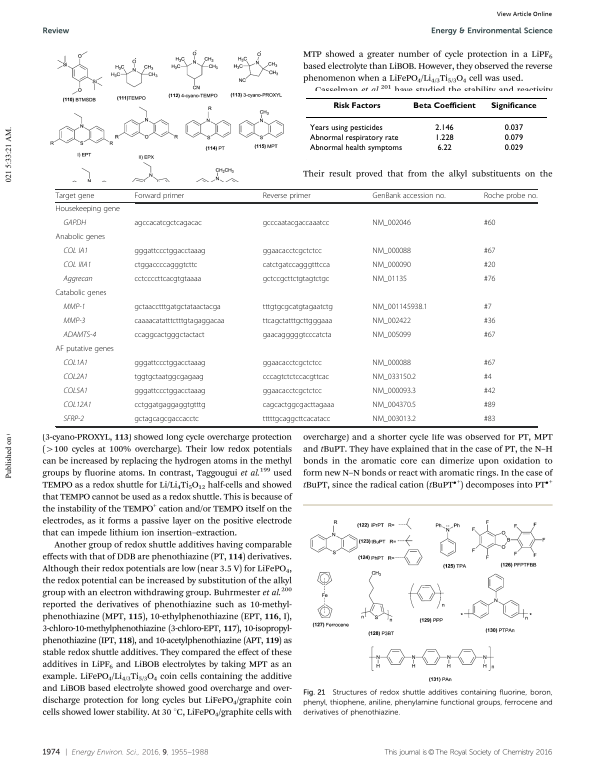borderless: (54, 187, 537, 426), (304, 96, 548, 161)
cell: (309, 143, 403, 153), (133, 316, 225, 326), (309, 133, 399, 143), (133, 302, 222, 312), (133, 246, 206, 256), (133, 358, 206, 368), (133, 386, 206, 396), (133, 400, 206, 410), (262, 400, 335, 410), (262, 302, 334, 312), (133, 330, 205, 340), (133, 372, 205, 382), (262, 316, 333, 326), (133, 218, 203, 228), (262, 330, 332, 340), (262, 260, 331, 270), (133, 274, 202, 284), (262, 414, 331, 424), (262, 218, 330, 228), (262, 274, 330, 284), (262, 372, 330, 382), (372, 191, 447, 200), (133, 414, 200, 424), (309, 123, 383, 132), (55, 204, 121, 214), (133, 260, 198, 270), (262, 246, 323, 256), (54, 344, 115, 354), (262, 358, 323, 368), (262, 386, 323, 396), (412, 101, 476, 110), (372, 302, 428, 312), (55, 288, 107, 298), (55, 232, 106, 242), (483, 191, 538, 200), (133, 191, 185, 200), (372, 372, 417, 382), (372, 386, 417, 396), (372, 400, 417, 410), (372, 414, 417, 424), (262, 191, 311, 200), (332, 101, 381, 110), (490, 101, 537, 110), (372, 218, 412, 228), (372, 246, 412, 256), (372, 260, 412, 270), (372, 316, 412, 326), (372, 330, 412, 340), (372, 358, 412, 368), (55, 191, 95, 200), (372, 274, 408, 284), (62, 330, 97, 339), (62, 274, 93, 284), (62, 260, 92, 270), (62, 246, 89, 256), (62, 400, 92, 409), (62, 218, 87, 228), (62, 358, 89, 367), (62, 372, 89, 381), (62, 386, 89, 395), (62, 302, 86, 311), (62, 316, 86, 325), (503, 133, 524, 143), (503, 143, 524, 153), (62, 414, 85, 423), (434, 133, 454, 143), (503, 123, 524, 132), (434, 123, 454, 132), (436, 143, 452, 153), (483, 218, 496, 228), (483, 246, 496, 256), (483, 260, 496, 270), (483, 274, 496, 284), (483, 316, 496, 326), (483, 330, 496, 340), (483, 358, 496, 368), (483, 386, 496, 396), (483, 400, 496, 410), (483, 414, 496, 424), (483, 302, 492, 312), (483, 372, 492, 382)
